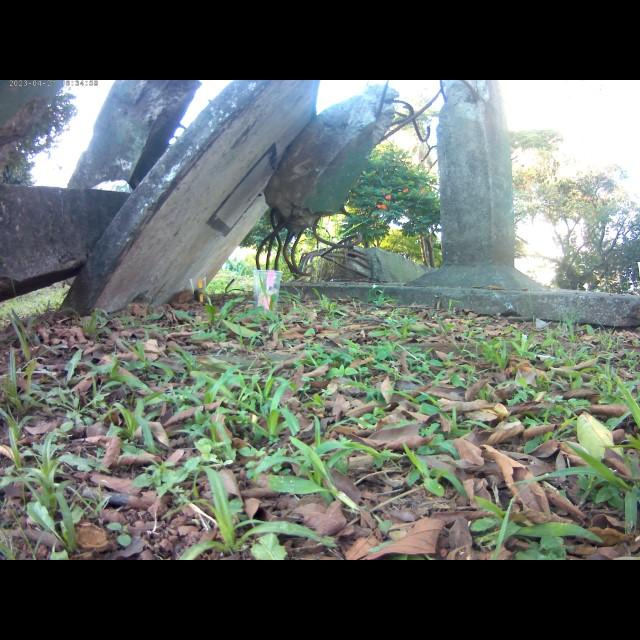detrito: (258, 81, 640, 332), (50, 80, 320, 315), (258, 83, 405, 236), (61, 82, 211, 186), (281, 241, 441, 291)
